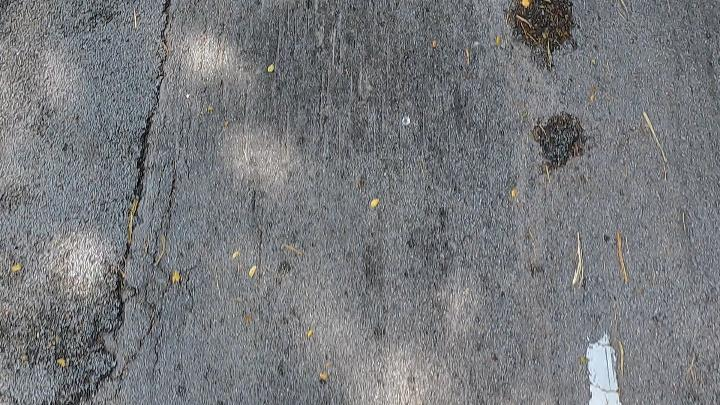Crack: (54, 0, 173, 405), (55, 0, 171, 404)
Lane: (582, 336, 622, 405), (588, 335, 621, 404)
Pothole: (502, 0, 575, 70), (511, 0, 573, 70), (532, 108, 587, 176), (533, 112, 585, 173)
